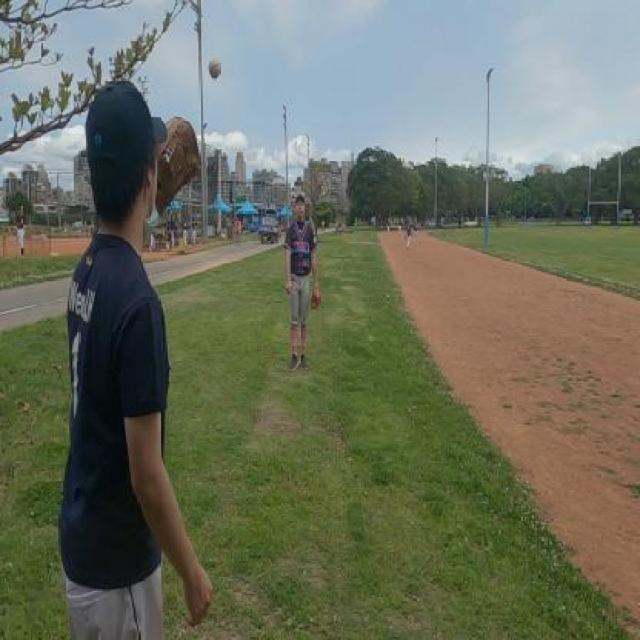baseball: (208, 57, 221, 80)
